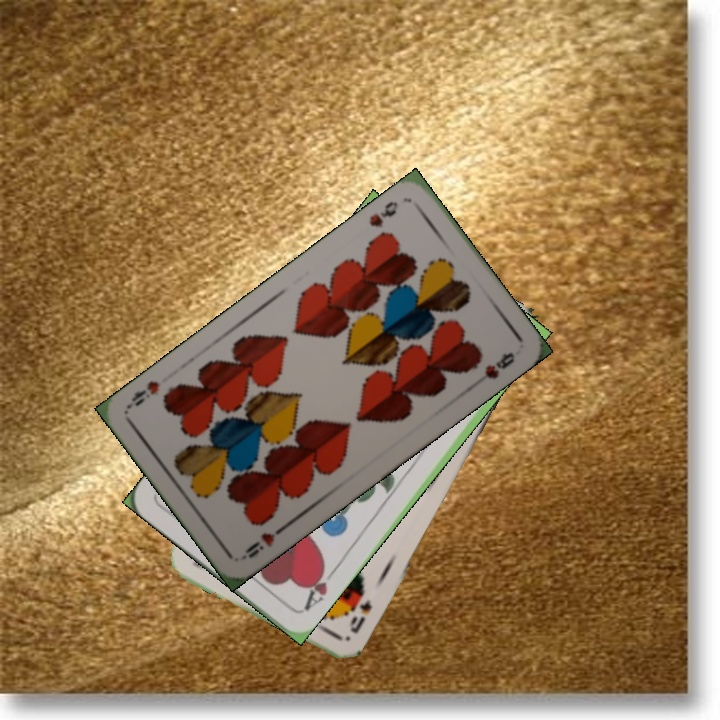H9: (237, 520, 289, 562), (364, 196, 401, 230)
HA: (299, 561, 339, 614)
SO: (345, 595, 375, 636)
